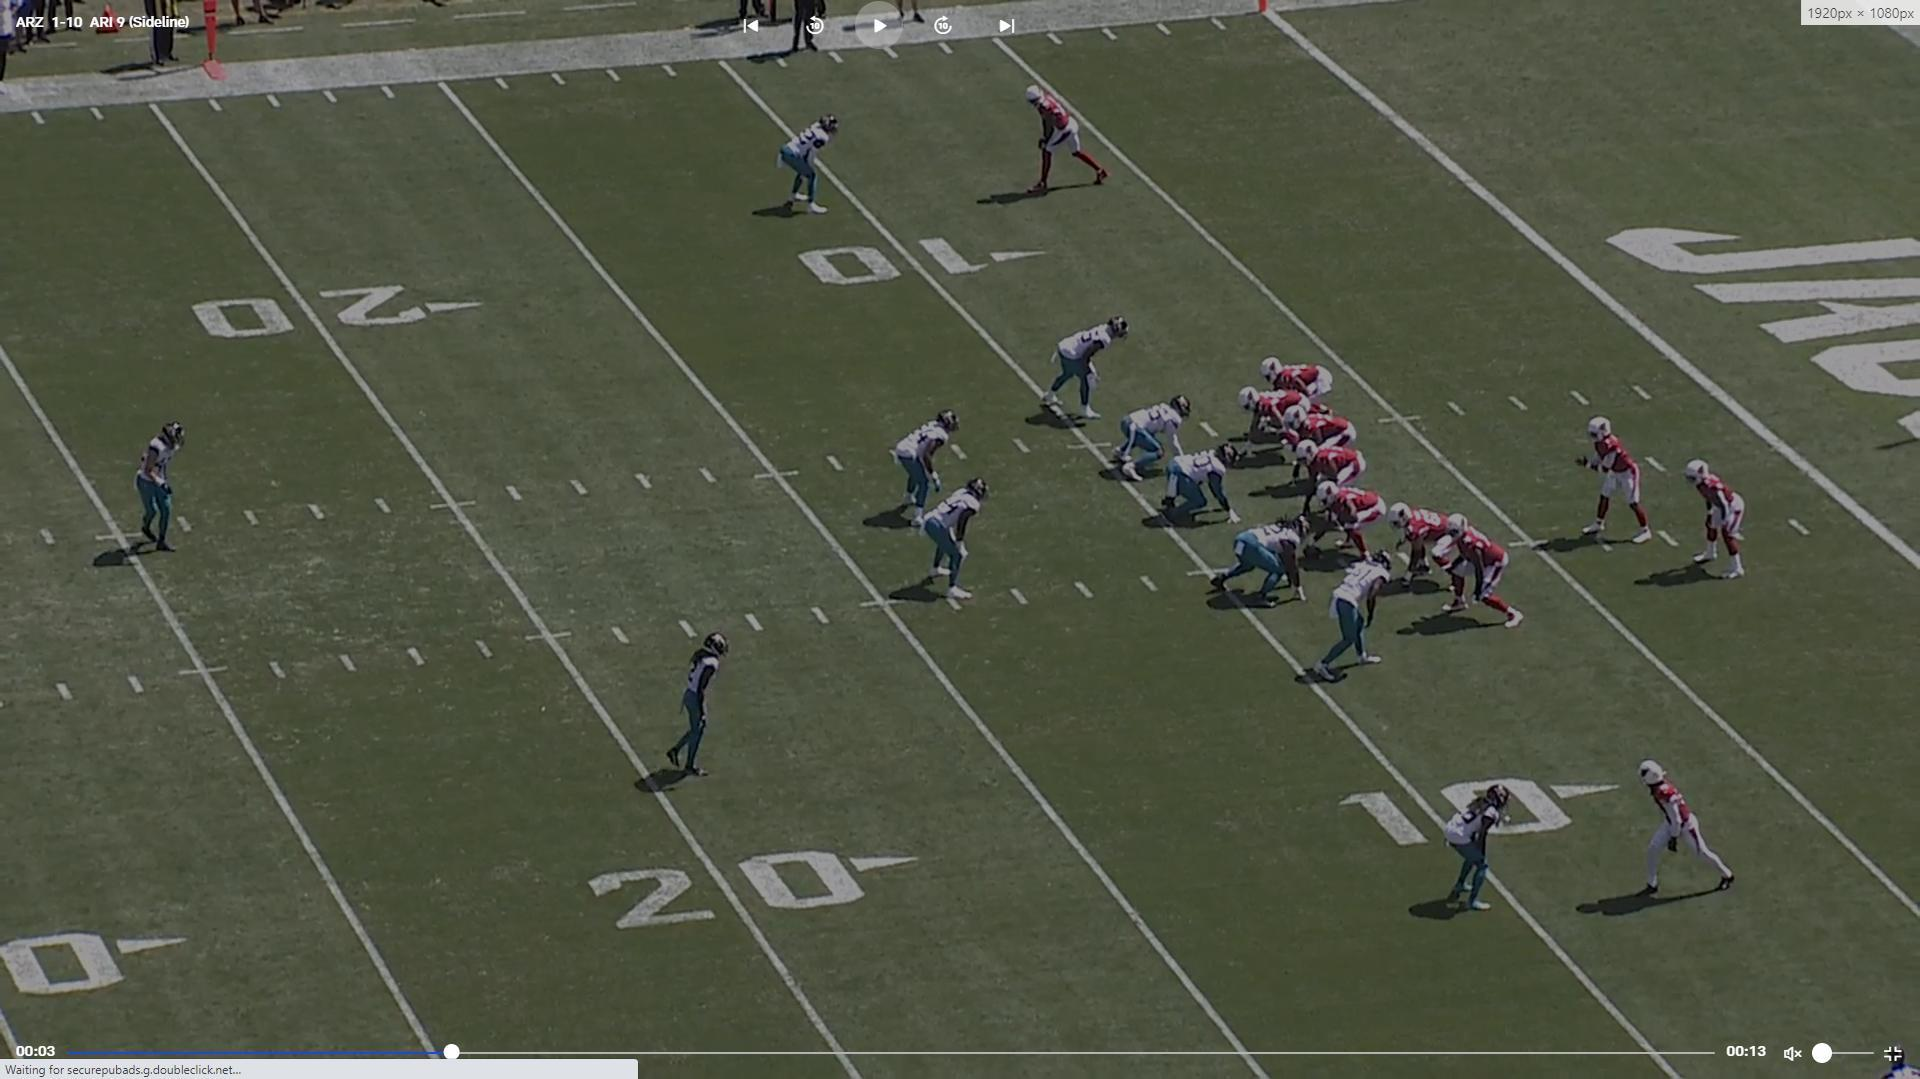player: (1628, 754, 1745, 903), (655, 627, 730, 806), (1304, 551, 1386, 688), (1576, 410, 1655, 548), (1020, 79, 1114, 194), (1041, 312, 1134, 426), (1210, 521, 1313, 622), (1442, 781, 1516, 919), (1445, 514, 1528, 636), (1146, 439, 1246, 533), (921, 476, 991, 608), (1679, 456, 1749, 585), (131, 418, 192, 564), (898, 408, 964, 530), (1106, 394, 1194, 483), (1394, 496, 1470, 592), (777, 113, 843, 222), (1283, 405, 1358, 487), (1316, 482, 1390, 563), (1298, 442, 1369, 525), (1234, 384, 1311, 459), (1254, 352, 1332, 408)
